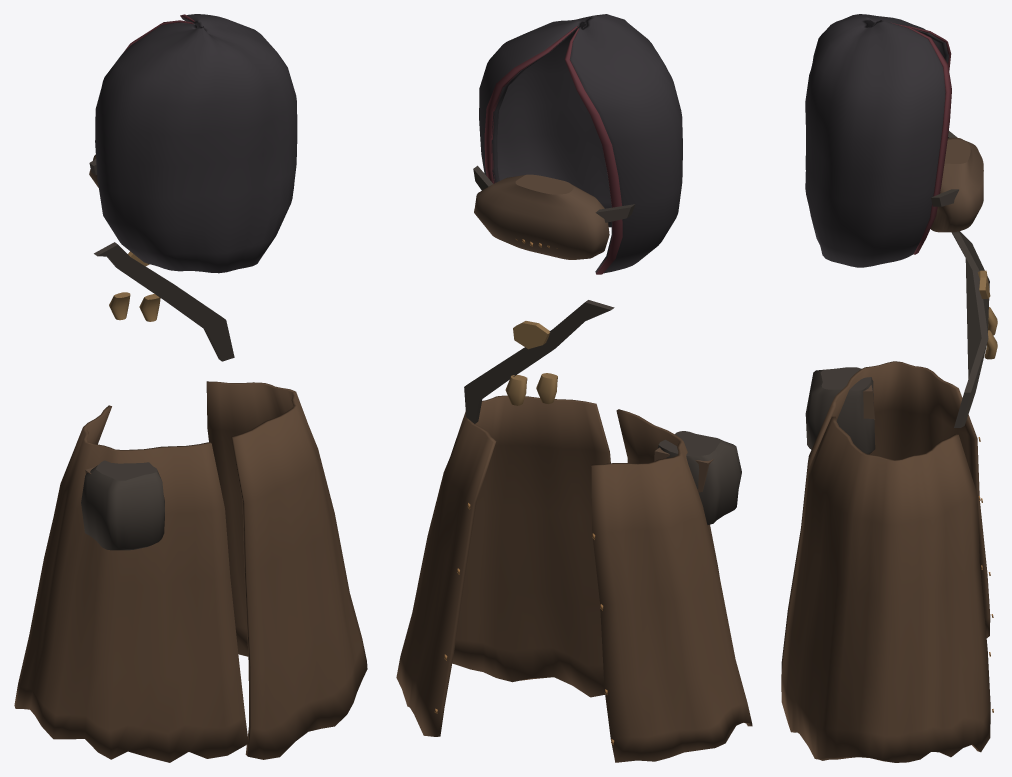
File: OccultHunter.glb
3 renders of one model, left to right at view 1: azimuth 30°, elevation 25°; view 2: azimuth 150°, elevation 25°; view 3: azimuth 270°, elevation 25°, orthographic. The views are drawn at different scales.
Visible parts, largest first — view 1: Geo_LeftCoatTail, Geo_KeeperHood, Geo_RightCoatTail, Geo_InstrumentSatchel, Geo_RitualStrap, Geo_ToolTokens; view 2: Geo_RightCoatTail, Geo_LeftCoatTail, Geo_KeeperHood, Geo_FieldMask, Geo_InstrumentSatchel, Geo_RitualStrap, Geo_RightHoodFacing, Geo_LeftHoodFacing, Geo_ToolTokens, Geo_KeeperClasp, Geo_MaskStraps; view 3: Geo_RightCoatTail, Geo_KeeperHood, Geo_LeftCoatTail, Geo_InstrumentSatchel, Geo_FieldMask, Geo_RitualStrap, Geo_LeftHoodFacing, Geo_ToolTokens, Geo_MaskStraps.
Part boxes in pixels (<box>): Geo_LeftCoatTail: <box>14,405,248,762</box>; Geo_KeeperHood: <box>95,14,297,273</box>; Geo_RightCoatTail: <box>206,381,367,759</box>; Geo_InstrumentSatchel: <box>81,460,164,550</box>; Geo_RitualStrap: <box>94,242,234,361</box>; Geo_ToolTokens: <box>109,292,160,321</box>; Geo_RightCoatTail: <box>396,395,610,736</box>; Geo_LeftCoatTail: <box>591,409,752,762</box>; Geo_KeeperHood: <box>479,14,682,273</box>; Geo_FieldMask: <box>474,174,609,259</box>; Geo_InstrumentSatchel: <box>657,431,741,524</box>; Geo_RitualStrap: <box>464,300,614,423</box>; Geo_RightHoodFacing: <box>564,28,622,274</box>; Geo_LeftHoodFacing: <box>484,26,577,183</box>; Geo_ToolTokens: <box>505,373,557,405</box>; Geo_KeeperClasp: <box>513,321,550,349</box>; Geo_MaskStraps: <box>473,165,635,222</box>; Geo_RightCoatTail: <box>781,416,990,762</box>; Geo_KeeperHood: <box>805,14,949,267</box>; Geo_LeftCoatTail: <box>781,361,990,671</box>; Geo_InstrumentSatchel: <box>805,367,875,454</box>; Geo_FieldMask: <box>930,137,983,232</box>; Geo_RitualStrap: <box>951,231,989,427</box>; Geo_LeftHoodFacing: <box>891,22,951,254</box>; Geo_ToolTokens: <box>984,307,997,359</box>; Geo_MaskStraps: <box>931,131,958,206</box>.
Size of the model in its own units: 2.35 by 4.92 by 1.39.
